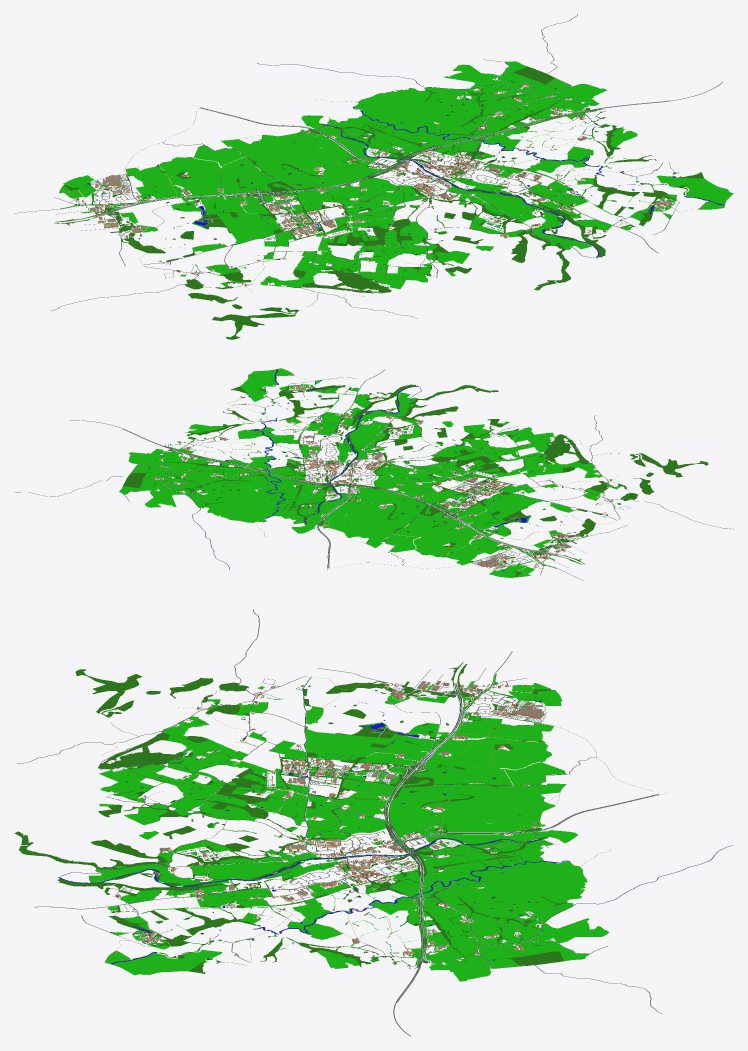
File: st asaph.glb
The picture shows the model from 3 angles, top to bottom: view 1: azimuth 30°, elevation 25°; view 2: azimuth 150°, elevation 25°; view 3: azimuth 270°, elevation 25°; orthographic projection. The views are drawn at different scales.
Visible parts, largest first — view 1: map_2.osm_vegetation, map_2.osm_forest, map_2.osm_buildings, map_2.osm_roads_service, map_2.osm_roads_unclassified, map_2.osm_water, map_2.osm_roads_trunk, map_2.osm_roads_secondary, map_2.osm_roads_residential, map_2.osm_roads_primary; view 2: map_2.osm_vegetation, map_2.osm_forest, map_2.osm_buildings, map_2.osm_roads_unclassified, map_2.osm_roads_service, map_2.osm_water, map_2.osm_roads_trunk, map_2.osm_roads_residential, map_2.osm_roads_secondary, map_2.osm_roads_primary; view 3: map_2.osm_vegetation, map_2.osm_forest, map_2.osm_buildings, map_2.osm_roads_service, map_2.osm_roads_unclassified, map_2.osm_water, map_2.osm_roads_trunk, map_2.osm_roads_residential, map_2.osm_roads_secondary, map_2.osm_roads_primary, map_2.osm_roads_track.
Part boxes in pixels (bbox=[...]): map_2.osm_vegetation: bbox=[59, 61, 733, 289]; map_2.osm_forest: bbox=[54, 66, 719, 339]; map_2.osm_buildings: bbox=[74, 82, 703, 286]; map_2.osm_roads_service: bbox=[56, 86, 679, 306]; map_2.osm_roads_unclassified: bbox=[51, 14, 662, 318]; map_2.osm_water: bbox=[88, 88, 724, 277]; map_2.osm_roads_trunk: bbox=[93, 82, 722, 217]; map_2.osm_roads_secondary: bbox=[143, 63, 593, 264]; map_2.osm_roads_residential: bbox=[69, 149, 672, 235]; map_2.osm_roads_primary: bbox=[200, 107, 658, 253]; map_2.osm_vegetation: bbox=[119, 368, 621, 578]; map_2.osm_forest: bbox=[123, 371, 708, 577]; map_2.osm_buildings: bbox=[153, 373, 623, 569]; map_2.osm_roads_unclassified: bbox=[14, 404, 733, 565]; map_2.osm_roads_service: bbox=[161, 381, 630, 570]; map_2.osm_water: bbox=[148, 369, 575, 570]; map_2.osm_roads_trunk: bbox=[69, 420, 557, 555]; map_2.osm_roads_residential: bbox=[300, 377, 576, 568]; map_2.osm_roads_secondary: bbox=[163, 387, 617, 569]; map_2.osm_roads_primary: bbox=[263, 369, 384, 568]; map_2.osm_vegetation: bbox=[89, 674, 608, 981]; map_2.osm_forest: bbox=[14, 662, 567, 973]; map_2.osm_buildings: bbox=[114, 681, 544, 960]; map_2.osm_roads_service: bbox=[107, 668, 557, 965]; map_2.osm_roads_unclassified: bbox=[17, 609, 661, 1013]; map_2.osm_water: bbox=[58, 690, 570, 964]; map_2.osm_roads_trunk: bbox=[385, 683, 470, 1036]; map_2.osm_roads_residential: bbox=[81, 681, 515, 939]; map_2.osm_roads_secondary: bbox=[60, 676, 733, 964]; map_2.osm_roads_primary: bbox=[34, 794, 658, 909]; map_2.osm_roads_track: bbox=[102, 677, 566, 961].
Size of the model in its own units: 9641 by 23.9 by 6869.
